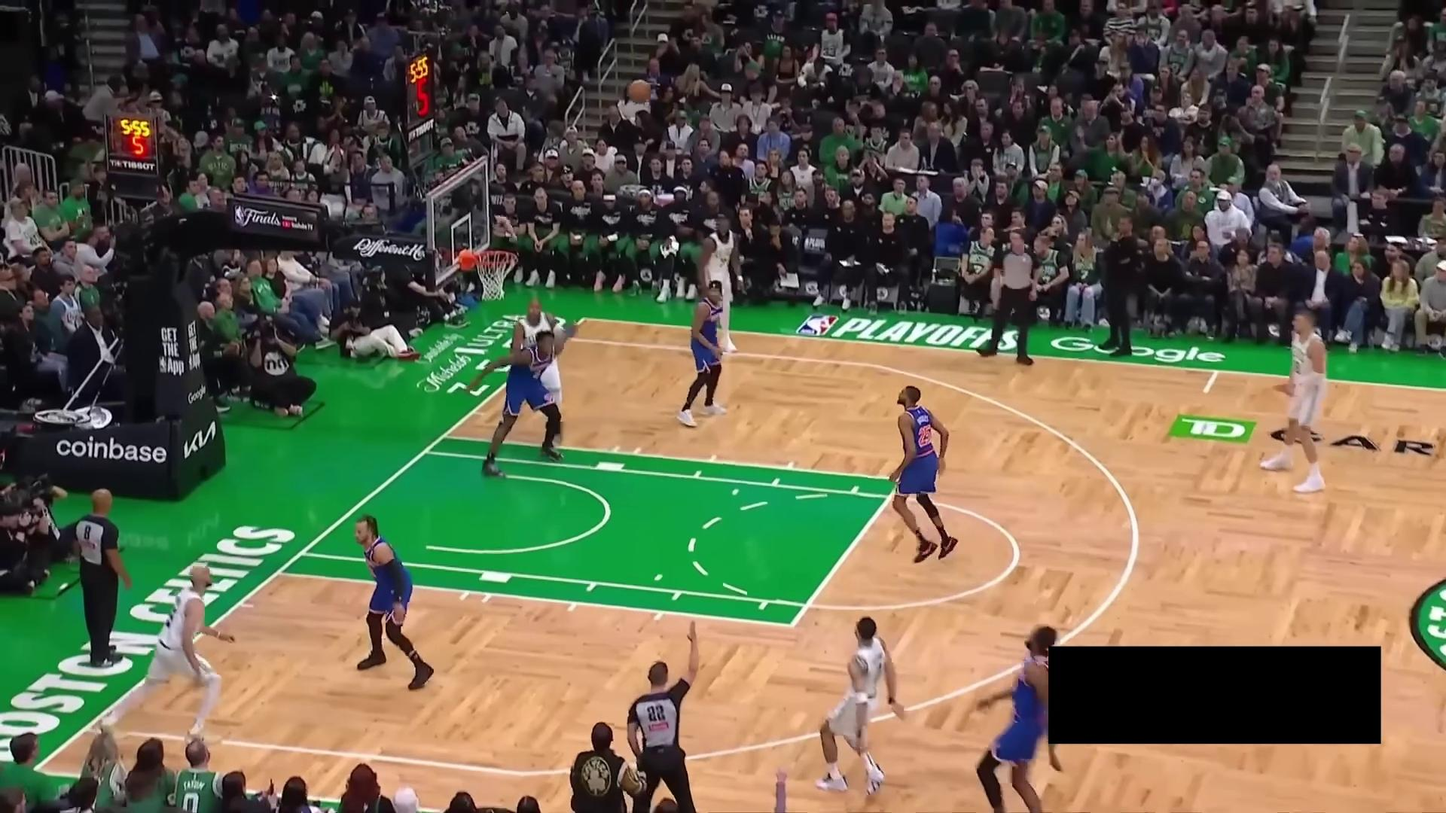ball: (626, 78, 655, 105)
number: (918, 422, 934, 447), (717, 256, 728, 268)
player: (94, 561, 240, 750), (460, 315, 587, 481), (965, 616, 1071, 813), (813, 605, 912, 797), (350, 511, 435, 692), (1258, 305, 1337, 494), (885, 384, 959, 563), (504, 291, 572, 442), (676, 278, 734, 427), (693, 210, 748, 354)
referee: (623, 619, 705, 813), (66, 486, 133, 668), (977, 227, 1042, 367)
rim: (475, 247, 519, 267)
